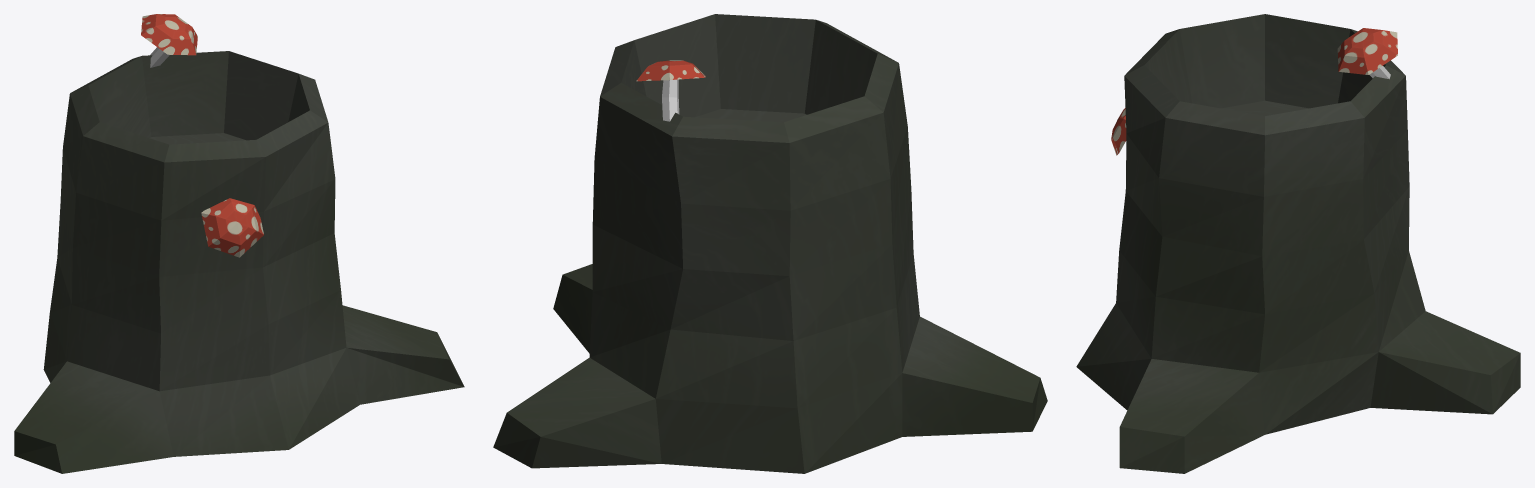
File: Dead Stumps with Mushroom.fbx
3 views of the same model, side by side, from view 1: azimuth 30°, elevation 25°; view 2: azimuth 150°, elevation 25°; view 3: azimuth 270°, elevation 25° (orthographic). The views are drawn at different scales.
Visible parts, largest first — view 1: Cylinder002, Cylinder018, Cylinder017; view 2: Cylinder002, Cylinder017, Cylinder012; view 3: Cylinder002, Cylinder017, Cylinder018.
Part boxes in pixels (left/top/right/bottom): Cylinder002: left=14, top=51, right=464, bottom=473; Cylinder018: left=201, top=198, right=263, bottom=257; Cylinder017: left=141, top=14, right=197, bottom=55; Cylinder002: left=493, top=14, right=1047, bottom=473; Cylinder017: left=636, top=60, right=705, bottom=81; Cylinder012: left=662, top=79, right=679, bottom=121; Cylinder002: left=1076, top=14, right=1520, bottom=473; Cylinder017: left=1337, top=28, right=1397, bottom=74; Cylinder018: left=1111, top=108, right=1126, bottom=155.
Size of the model in its own units: 36.57 by 26.99 by 31.62.
